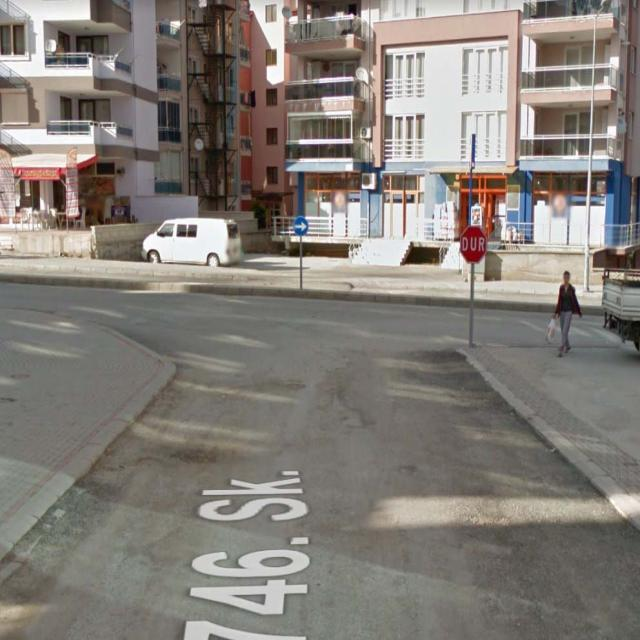dur: (460, 225, 486, 262)
sag: (294, 218, 308, 236)
